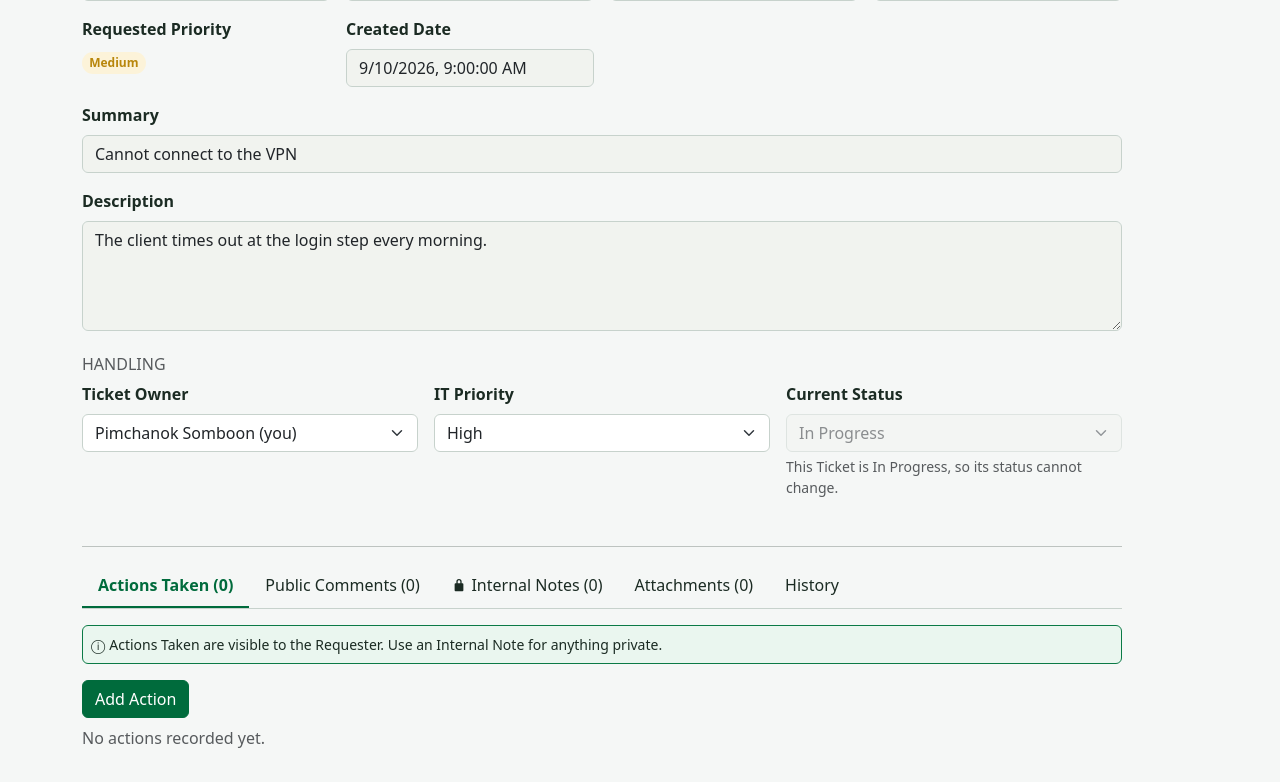
it: Add Action › asks before discarding a started Action and returns focus to Add Action
(page scrolled)
Click the button "Add Action" at point(136, 699), box [82,680,190,718]
(page scrolled)
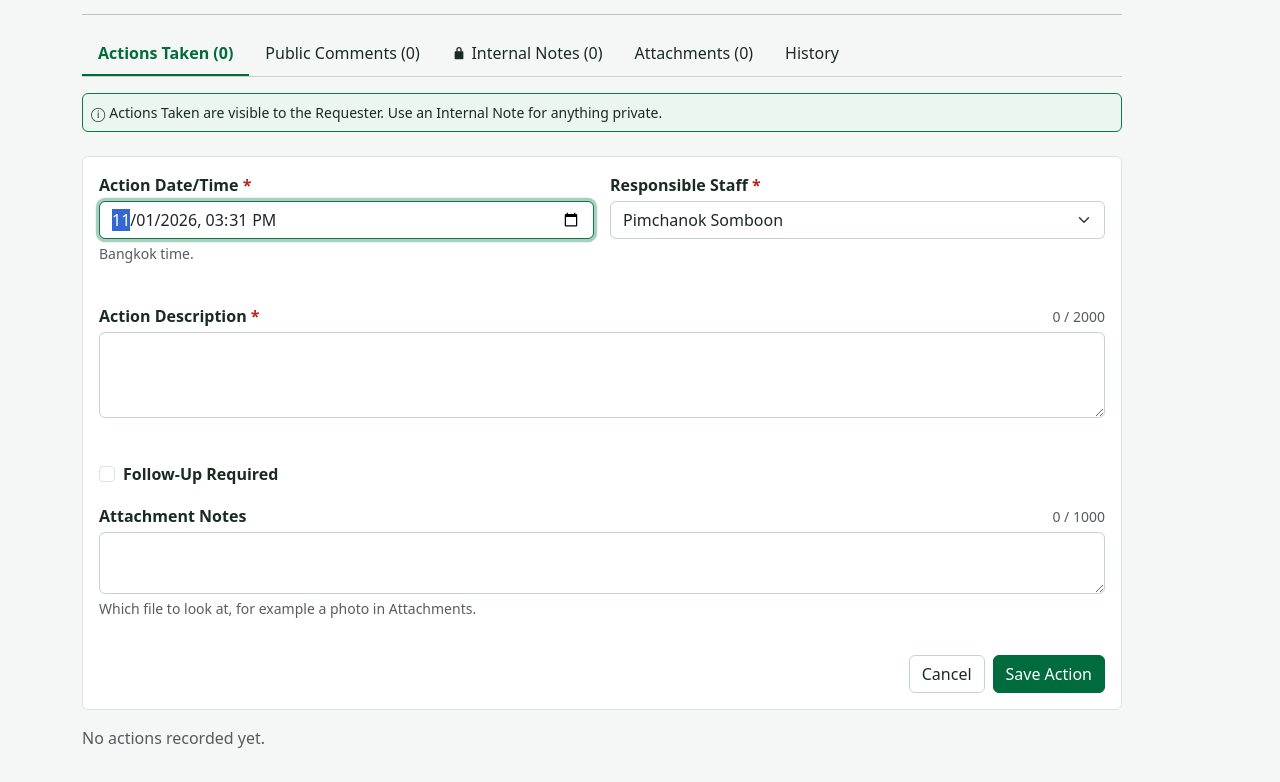
Type "Half typed" into the text box labelled "Action Description *" at point(602, 375), box [99,332,1105,418]
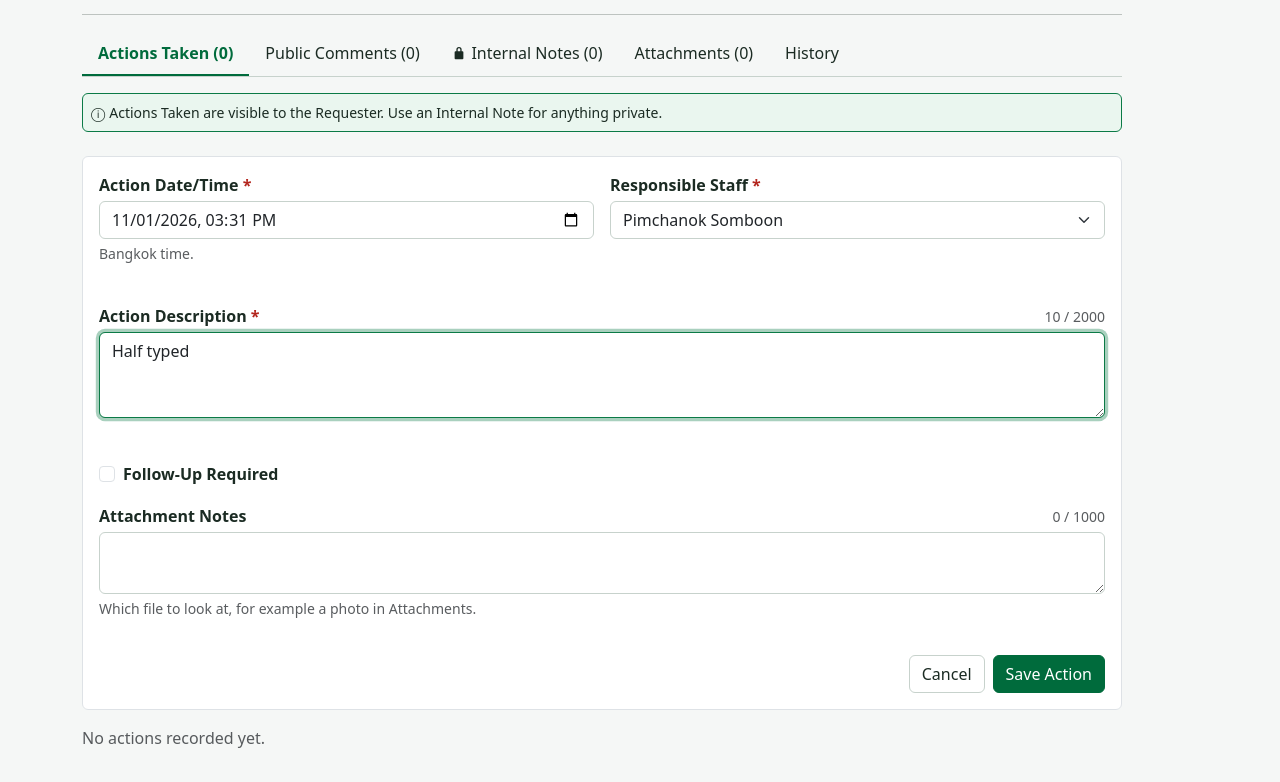
Click the button "Cancel" at point(947, 674), box [909,655,984,693]
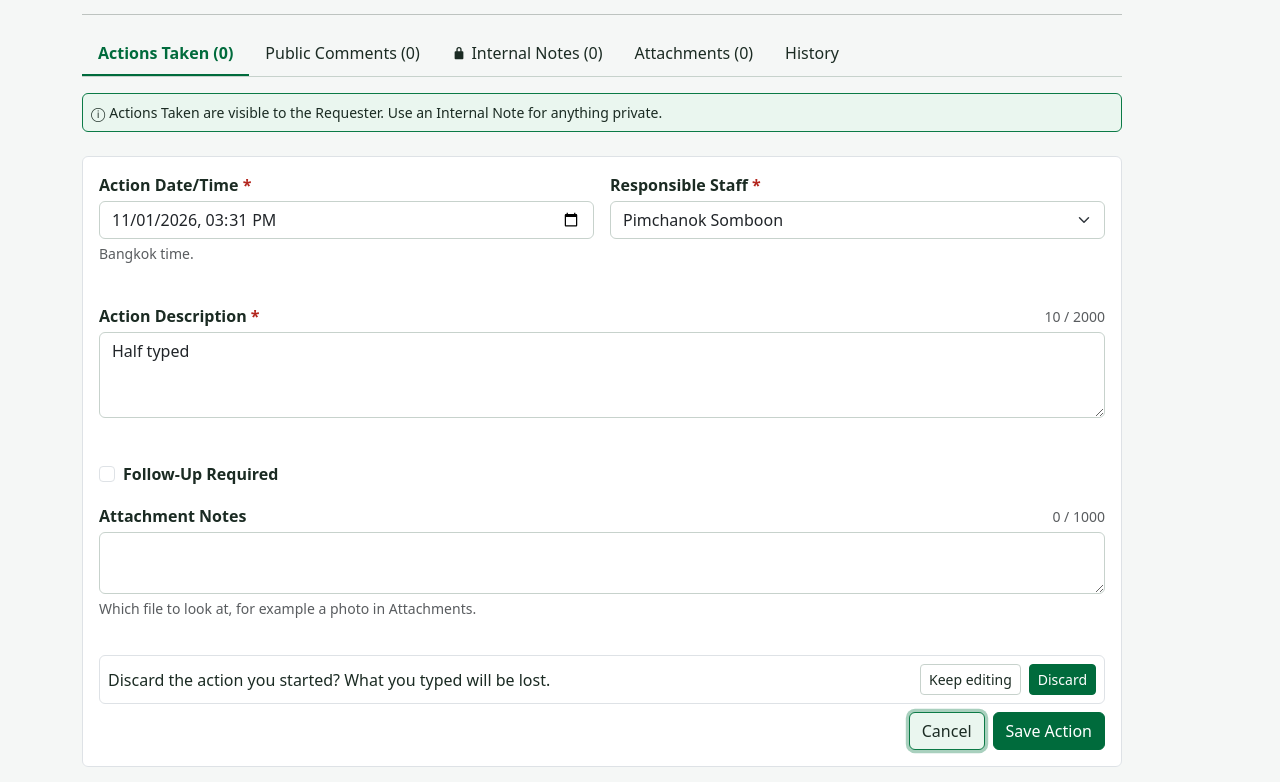
Expected: the text "Discard the action you started? What you typed will be lost." is shown, [108,668,550,692]
Click the button "Keep editing" at point(970, 680), box [920,664,1021,695]
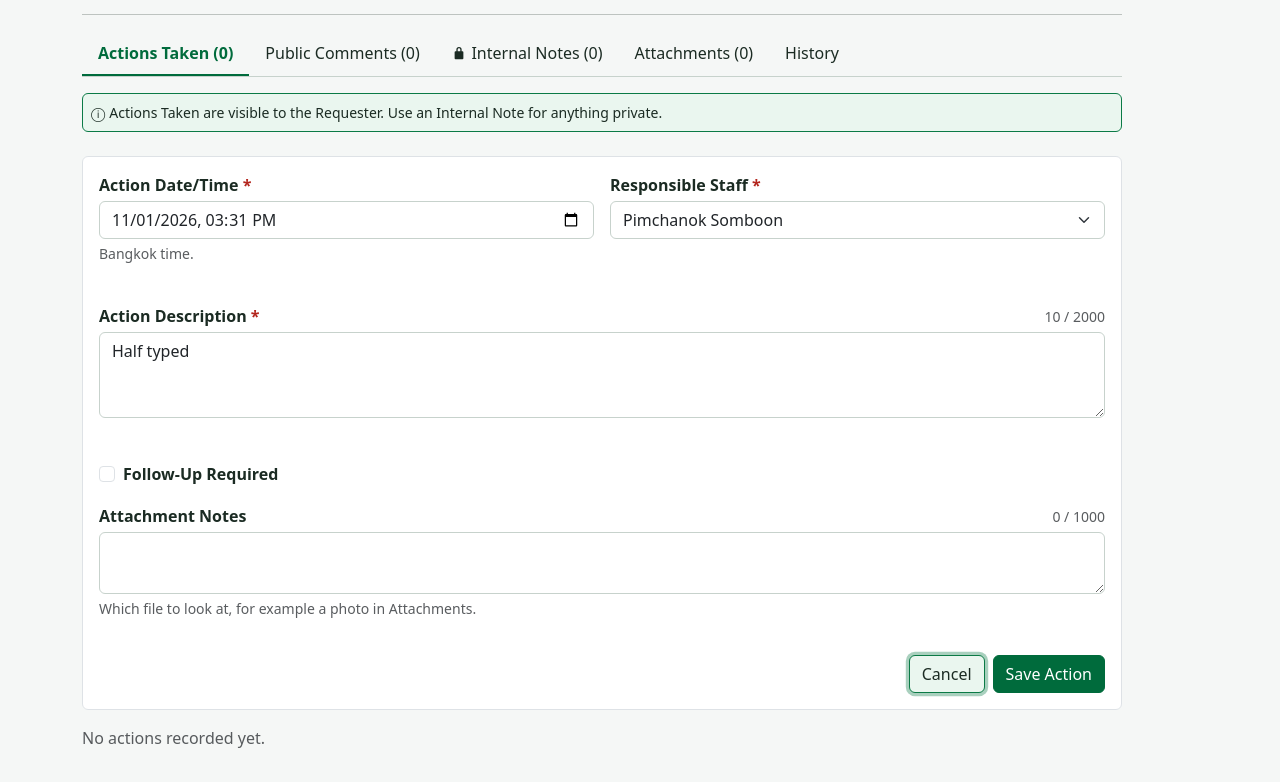
Click the button "Cancel" at point(947, 674), box [909,655,984,693]
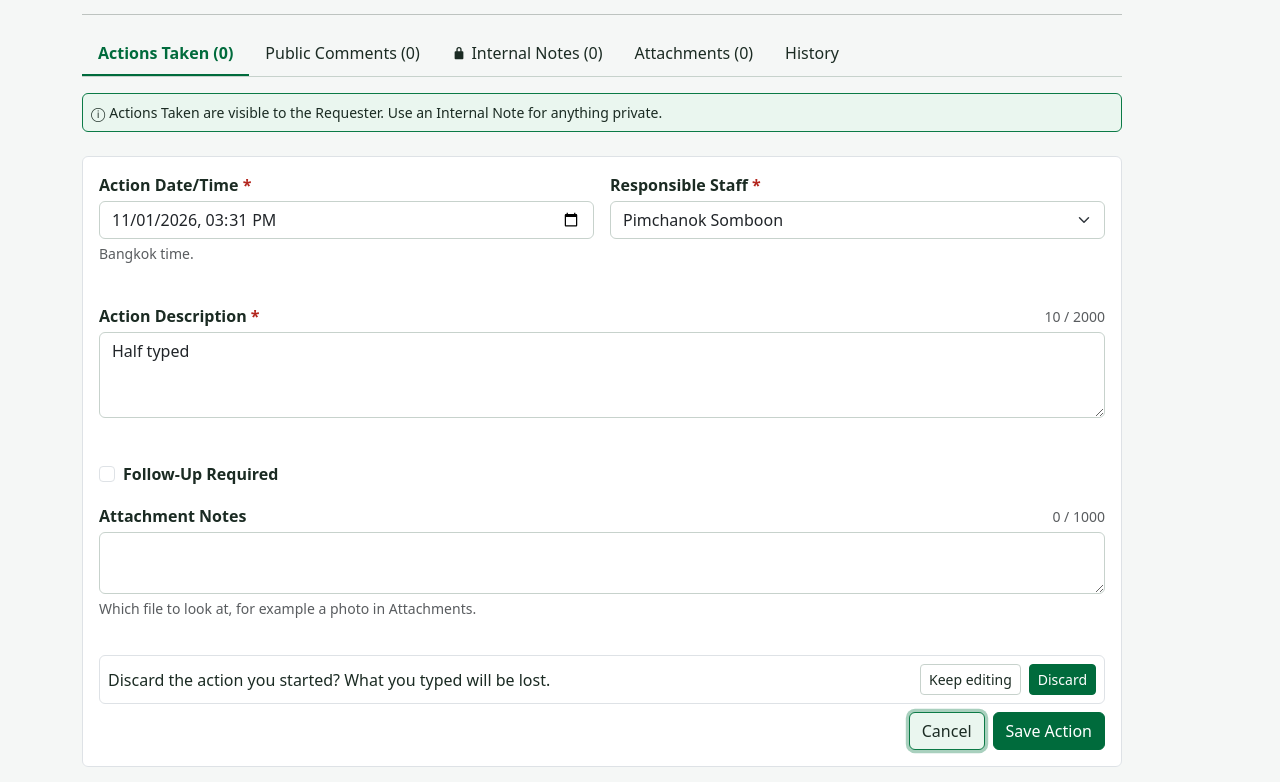
Click the button "Discard" at point(1062, 680), box [1029,664,1096,695]
(page scrolled)
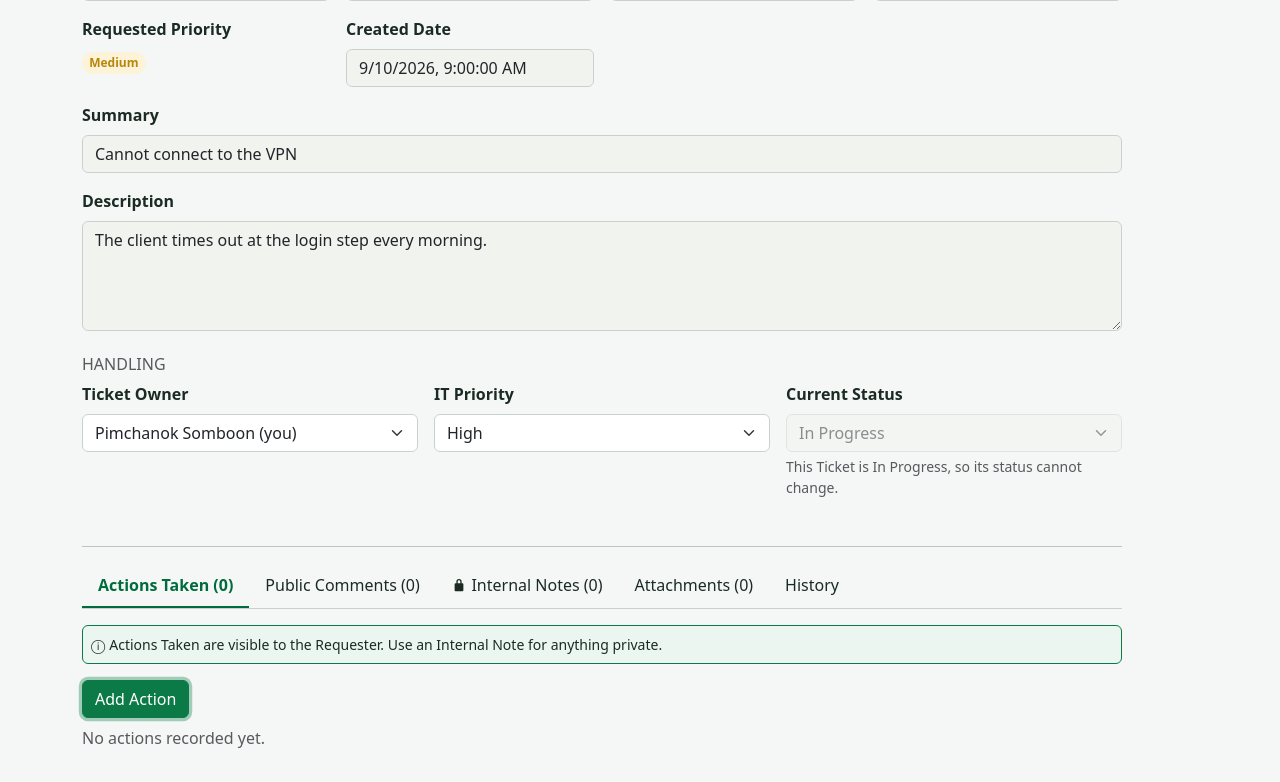
Expected: the label labelled "Action Description" is gone
